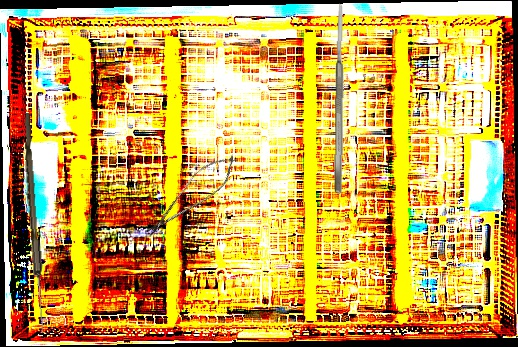Micro Scissor: (138, 146, 245, 246)
Spatula Surgical: (332, 2, 347, 194)
Surgical Spoon: (19, 112, 49, 334)
